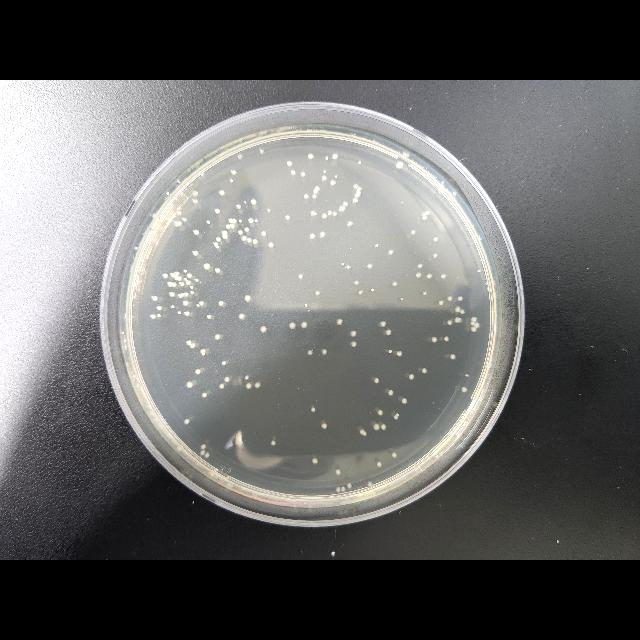colony: (288, 322, 296, 330), (396, 162, 404, 170), (300, 322, 308, 328), (192, 230, 200, 236), (321, 422, 327, 430), (337, 318, 343, 326), (338, 205, 346, 211), (402, 152, 410, 158), (373, 424, 379, 431), (251, 199, 257, 205), (236, 204, 242, 210), (219, 190, 225, 196), (231, 169, 237, 175), (287, 161, 293, 167), (290, 170, 296, 176), (308, 154, 314, 160), (218, 300, 224, 306), (245, 295, 251, 301), (239, 313, 245, 319), (204, 263, 210, 269), (193, 250, 199, 256), (200, 348, 206, 354), (190, 343, 196, 349), (186, 340, 192, 346), (261, 326, 267, 332), (314, 290, 320, 296), (307, 350, 313, 356), (321, 349, 327, 355), (152, 295, 158, 301), (169, 292, 175, 298), (170, 272, 176, 278), (183, 300, 189, 306), (174, 221, 180, 227), (176, 210, 182, 216), (192, 190, 198, 196), (187, 382, 193, 388), (202, 392, 208, 398), (224, 377, 230, 383), (246, 383, 252, 389), (254, 382, 260, 388), (184, 418, 190, 424), (200, 450, 206, 456), (178, 445, 184, 451), (204, 452, 210, 458), (310, 406, 316, 412), (312, 458, 318, 464), (340, 486, 346, 492), (388, 390, 394, 396), (401, 398, 407, 404), (374, 378, 380, 384), (351, 331, 357, 337), (351, 341, 357, 347), (380, 321, 386, 327), (444, 336, 450, 342), (450, 354, 456, 360), (354, 280, 360, 286), (367, 263, 373, 269), (298, 274, 304, 280), (332, 154, 338, 160), (410, 230, 416, 236), (426, 273, 432, 279), (438, 300, 444, 306), (330, 180, 336, 186), (314, 186, 320, 192), (312, 194, 318, 200), (309, 233, 315, 239), (320, 231, 326, 237), (342, 201, 348, 207), (353, 184, 359, 190), (474, 322, 480, 328), (268, 242, 274, 248), (225, 483, 233, 487), (248, 218, 254, 222), (238, 154, 242, 160), (300, 172, 306, 176), (262, 231, 266, 237), (252, 240, 258, 244), (186, 280, 190, 286), (200, 300, 204, 306), (184, 312, 190, 316), (216, 334, 220, 340), (178, 294, 184, 298), (152, 314, 156, 320), (173, 282, 177, 288), (216, 208, 220, 214), (194, 198, 198, 204), (152, 213, 156, 219), (124, 338, 128, 344), (126, 361, 130, 367), (136, 382, 140, 388), (196, 369, 200, 375), (202, 444, 206, 450), (272, 440, 276, 446), (222, 360, 226, 366), (382, 424, 386, 430), (392, 452, 396, 458), (378, 461, 382, 467), (368, 481, 372, 487), (336, 469, 340, 475), (348, 483, 352, 489), (336, 487, 340, 493), (373, 490, 377, 496), (394, 414, 398, 420), (378, 410, 382, 416), (410, 374, 414, 380), (422, 368, 426, 374), (396, 352, 402, 356), (386, 329, 390, 335), (432, 337, 436, 343), (388, 250, 394, 254), (392, 282, 398, 286), (244, 228, 250, 232), (233, 218, 237, 224), (230, 224, 236, 228), (226, 224, 230, 230), (222, 231, 228, 235), (222, 235, 228, 239), (434, 236, 438, 242), (416, 272, 420, 278), (440, 274, 446, 278), (448, 296, 452, 302), (448, 320, 452, 326), (304, 194, 308, 200), (311, 210, 315, 216), (328, 210, 332, 216), (322, 214, 328, 218), (332, 212, 338, 216), (352, 198, 358, 202), (358, 186, 362, 192), (426, 210, 430, 216), (422, 216, 428, 220), (456, 306, 460, 312), (472, 316, 476, 322), (472, 326, 476, 332), (455, 318, 461, 322), (462, 386, 466, 392), (438, 452, 444, 456), (487, 362, 491, 368), (438, 184, 444, 188), (209, 471, 215, 475), (286, 216, 290, 220), (260, 150, 264, 154), (322, 176, 326, 180), (207, 315, 211, 319), (184, 292, 188, 296), (188, 274, 192, 278), (195, 278, 199, 282), (216, 268, 220, 272), (214, 242, 218, 246), (180, 282, 184, 286), (158, 306, 162, 310), (164, 274, 168, 278), (168, 282, 172, 286), (176, 271, 180, 275), (178, 276, 182, 280), (183, 218, 187, 222), (178, 222, 182, 226), (133, 374, 137, 378), (134, 380, 138, 384), (220, 384, 224, 388), (245, 376, 249, 380), (360, 430, 364, 434), (358, 290, 362, 294), (346, 265, 350, 269), (248, 238, 252, 242), (242, 236, 246, 240), (238, 230, 242, 234), (229, 219, 233, 223), (216, 238, 220, 242), (433, 254, 437, 258), (418, 264, 422, 268), (423, 291, 427, 295), (313, 190, 317, 194), (348, 222, 352, 226), (356, 194, 360, 198), (356, 191, 360, 195), (422, 212, 426, 216), (458, 296, 462, 300), (460, 310, 464, 314), (471, 322, 475, 326), (452, 192, 456, 196), (227, 476, 230, 480), (371, 288, 374, 292), (268, 208, 270, 212), (326, 156, 328, 160), (190, 292, 194, 294), (178, 312, 182, 314), (203, 352, 205, 356), (304, 304, 308, 306), (158, 314, 160, 318), (138, 387, 140, 391), (364, 432, 366, 436), (388, 350, 392, 352), (342, 262, 344, 266), (334, 176, 338, 178), (244, 200, 246, 203), (255, 220, 258, 222), (324, 170, 326, 173), (190, 286, 193, 288), (197, 305, 200, 307), (175, 278, 178, 280), (208, 220, 210, 223), (167, 192, 170, 194), (177, 180, 180, 182), (136, 247, 138, 250), (396, 414, 399, 416), (401, 298, 404, 300), (376, 245, 378, 248), (315, 212, 317, 215), (240, 220, 242, 222), (230, 180, 232, 182), (186, 279, 188, 281), (185, 278, 187, 280), (184, 270, 186, 272), (216, 246, 218, 248), (122, 332, 124, 334), (308, 310, 310, 312), (172, 306, 174, 308), (202, 174, 204, 176), (178, 182, 180, 184), (358, 162, 360, 164), (401, 202, 403, 204), (478, 270, 480, 272), (466, 375, 468, 377), (442, 182, 444, 184), (125, 346, 127, 348), (125, 348, 127, 350)
